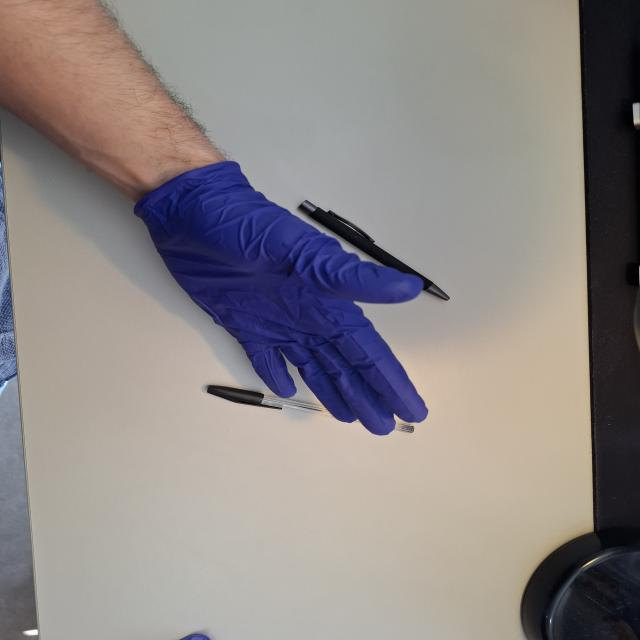glove_on: (133, 164, 434, 438)
